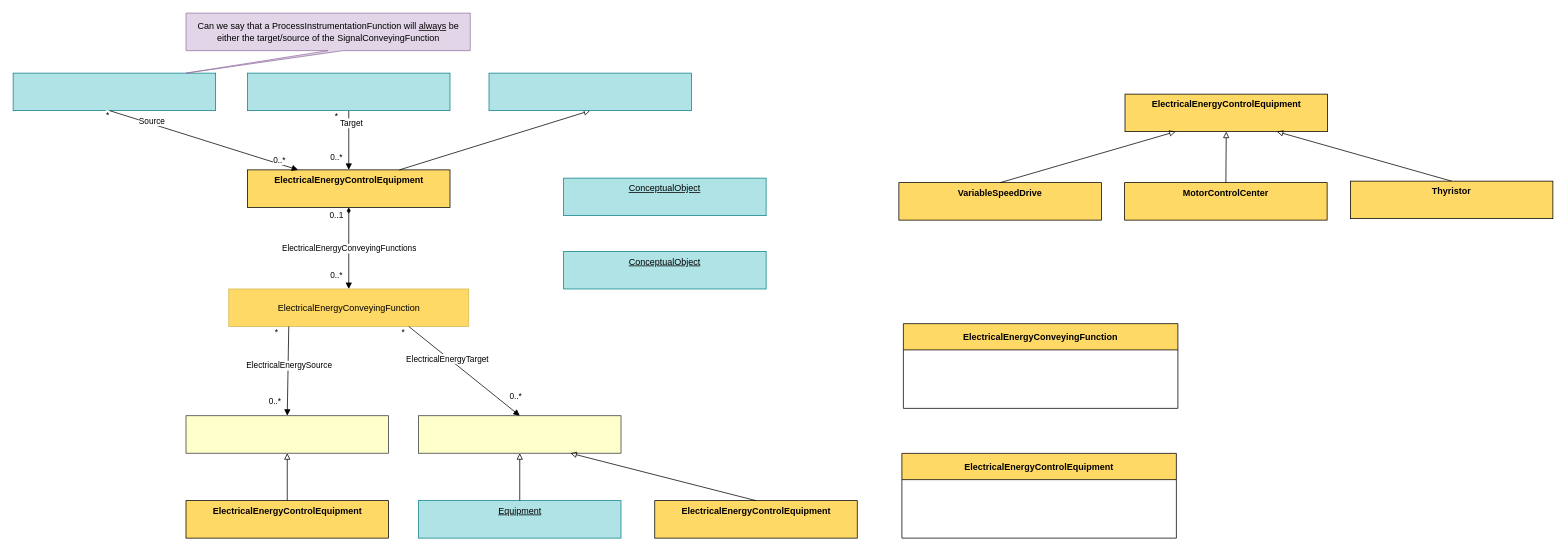
The diagram is 1566 pixels wide and 554 high, and some of its shapes have lost their labels. Each missing label, with the box of its shape:
ElectricalEnergyConveyingFunctionSource: (185, 415, 388, 453)
ElectricalEnergyConveyingFunctionTarget: (418, 415, 621, 453)
SignalConveyingFunctionSource: (12, 72, 216, 111)
SignalConveyingFunctionTarget: (247, 72, 450, 111)
TaggedPlantItem: (488, 72, 692, 111)
